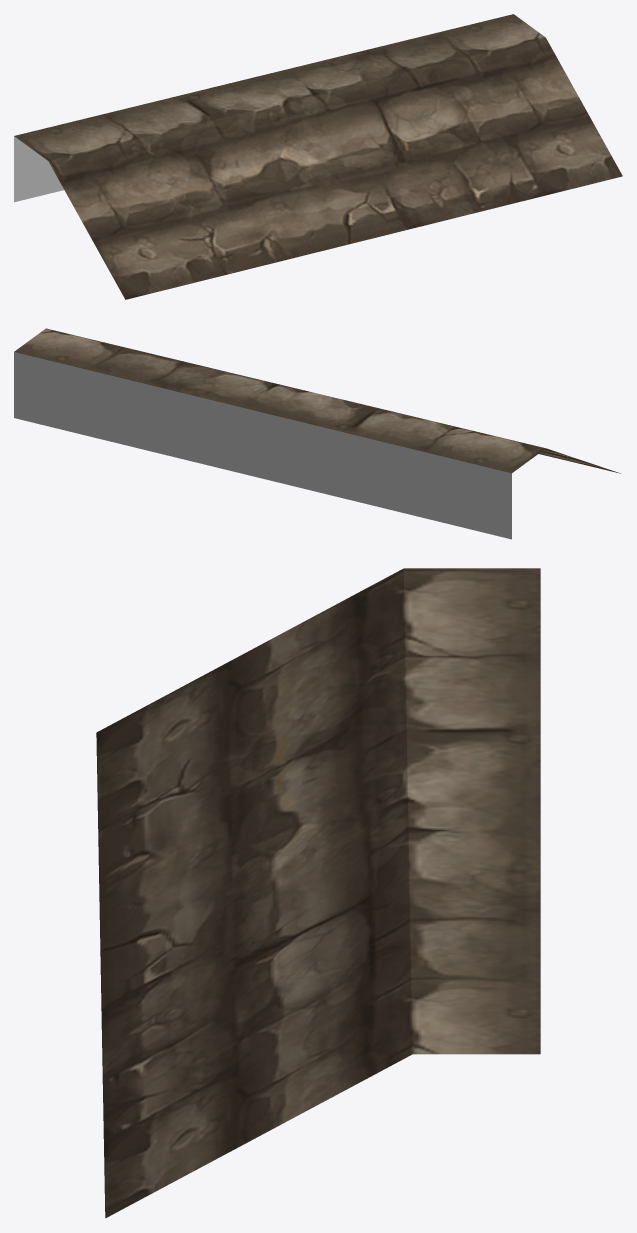
Rendered from stair_1_col.FBX.
The picture shows the model from 3 angles, top to bottom: view 1: azimuth 30°, elevation 25°; view 2: azimuth 150°, elevation 25°; view 3: azimuth 270°, elevation 25°; orthographic projection. The views are drawn at different scales.
Visible parts, largest first — view 1: stair_1_nav; view 2: stair_1_nav; view 3: stair_1_nav.
Boxes of the visible parts, box(x1,y1,x2,y2) form: stair_1_nav: box(14, 14, 622, 299); stair_1_nav: box(14, 328, 620, 539); stair_1_nav: box(96, 568, 540, 1218).
Bounding box in the file's own units: 4.25 × 0.67 × 1.64.
